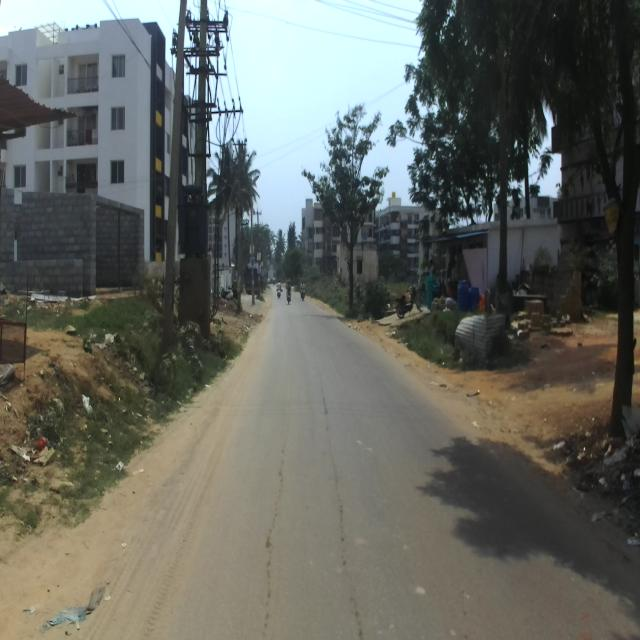electric pole ahead at: (176, 0, 230, 336)
tree ahead at: (604, 168, 639, 438)
